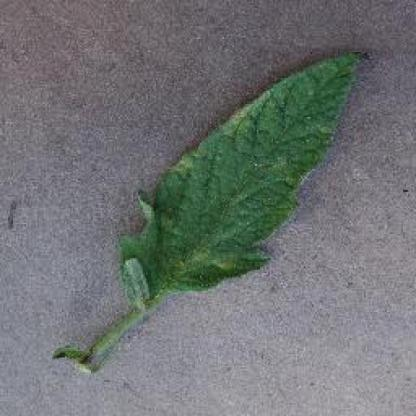Tomato_Leaf_Mold: (126, 49, 371, 296)
